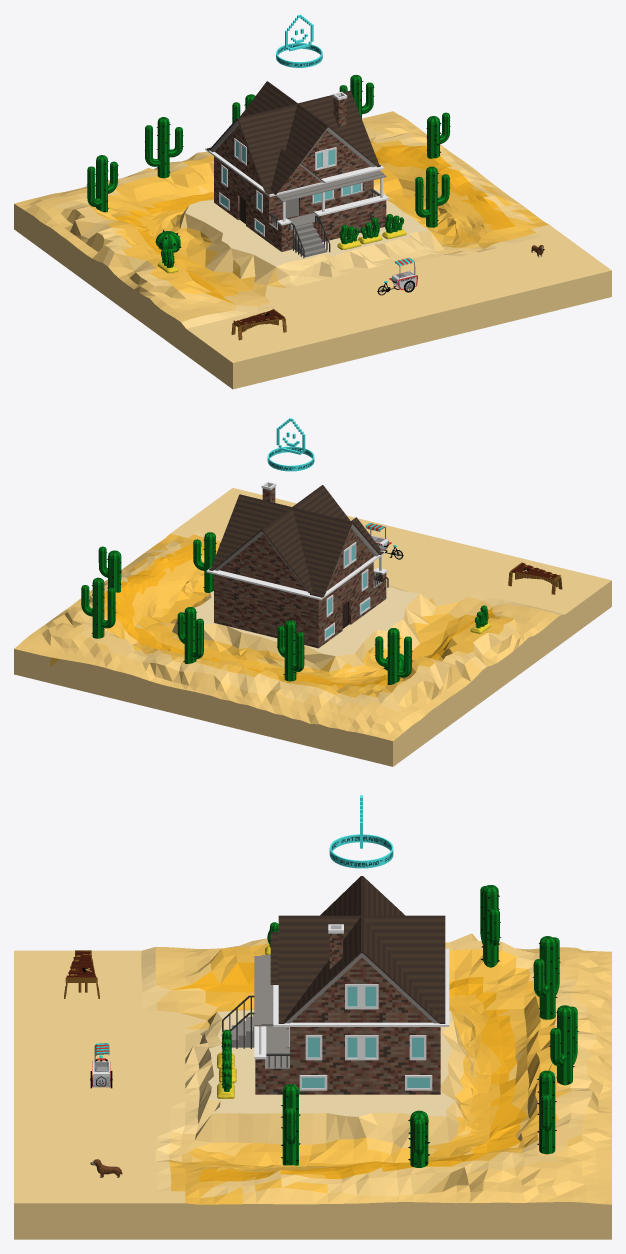
3 renders of one model, top to bottom at view 1: azimuth 30°, elevation 25°; view 2: azimuth 150°, elevation 25°; view 3: azimuth 270°, elevation 25°, orthographic. The views are drawn at different scales.
Parts seen in each view (by area): view 1: Cube.001, Cube.117, Cylinder.044, Cylinder.037, Cylinder.045, TYPE_PREMIUM, Cylinder.038, OBJRANDOM_MARIMBA, VEHICLES_SNOWBAL_BIKE, Cylinder.042; view 2: Cube.001, Cube.117, Cylinder.042, Cylinder.045, Cylinder.044, Cylinder.043, TYPE_PREMIUM, Cylinder.037, Cylinder.038, OBJRANDOM_MARIMBA; view 3: Cube.001, Cube.117, Cylinder.044, Cylinder.043, Cylinder.045, Cylinder.042, Cylinder.037, TYPE_PREMIUM, Cylinder.038, OBJRANDOM_MARIMBA, VEHICLES_SNOWBAL_BIKE.
Part boxes in pixels (left/top/right/bottom): Cube.001: left=14, top=111, right=611, bottom=389; Cube.117: left=205, top=81, right=388, bottom=258; Cylinder.044: left=145, top=117, right=183, bottom=178; Cylinder.037: left=415, top=166, right=449, bottom=227; Cylinder.045: left=87, top=155, right=118, bottom=212; TYPE_PREMIUM: left=276, top=14, right=322, bottom=67; Cylinder.038: left=426, top=112, right=450, bottom=158; OBJRANDOM_MARIMBA: left=231, top=308, right=286, bottom=340; VEHICLES_SNOWBAL_BIKE: left=377, top=257, right=417, bottom=295; Cylinder.042: left=339, top=75, right=374, bottom=118; Cube.001: left=14, top=488, right=611, bottom=766; Cube.117: left=206, top=481, right=388, bottom=648; Cylinder.042: left=81, top=577, right=116, bottom=638; Cylinder.045: left=374, top=628, right=412, bottom=684; Cylinder.044: left=277, top=620, right=304, bottom=681; Cylinder.043: left=177, top=607, right=203, bottom=663; TYPE_PREMIUM: left=267, top=418, right=314, bottom=471; Cylinder.037: left=193, top=532, right=220, bottom=592; Cylinder.038: left=98, top=546, right=121, bottom=592; OBJRANDOM_MARIMBA: left=508, top=562, right=562, bottom=594; Cube.001: left=14, top=933, right=611, bottom=1239; Cube.117: left=222, top=876, right=449, bottom=1094; Cylinder.044: left=533, top=936, right=560, bottom=1019; Cylinder.043: left=549, top=1005, right=578, bottom=1085; Cylinder.045: left=480, top=885, right=500, bottom=967; Cylinder.042: left=537, top=1070, right=556, bottom=1154; Cylinder.037: left=281, top=1084, right=300, bottom=1165; TYPE_PREMIUM: left=329, top=795, right=393, bottom=868; Cylinder.038: left=408, top=1110, right=429, bottom=1167; OBJRANDOM_MARIMBA: left=64, top=950, right=99, bottom=998; VEHICLES_SNOWBAL_BIKE: left=90, top=1043, right=112, bottom=1088.
Size of the model in its own units: 4002 by 2441 by 4001.
34 materials, 4 textured.
